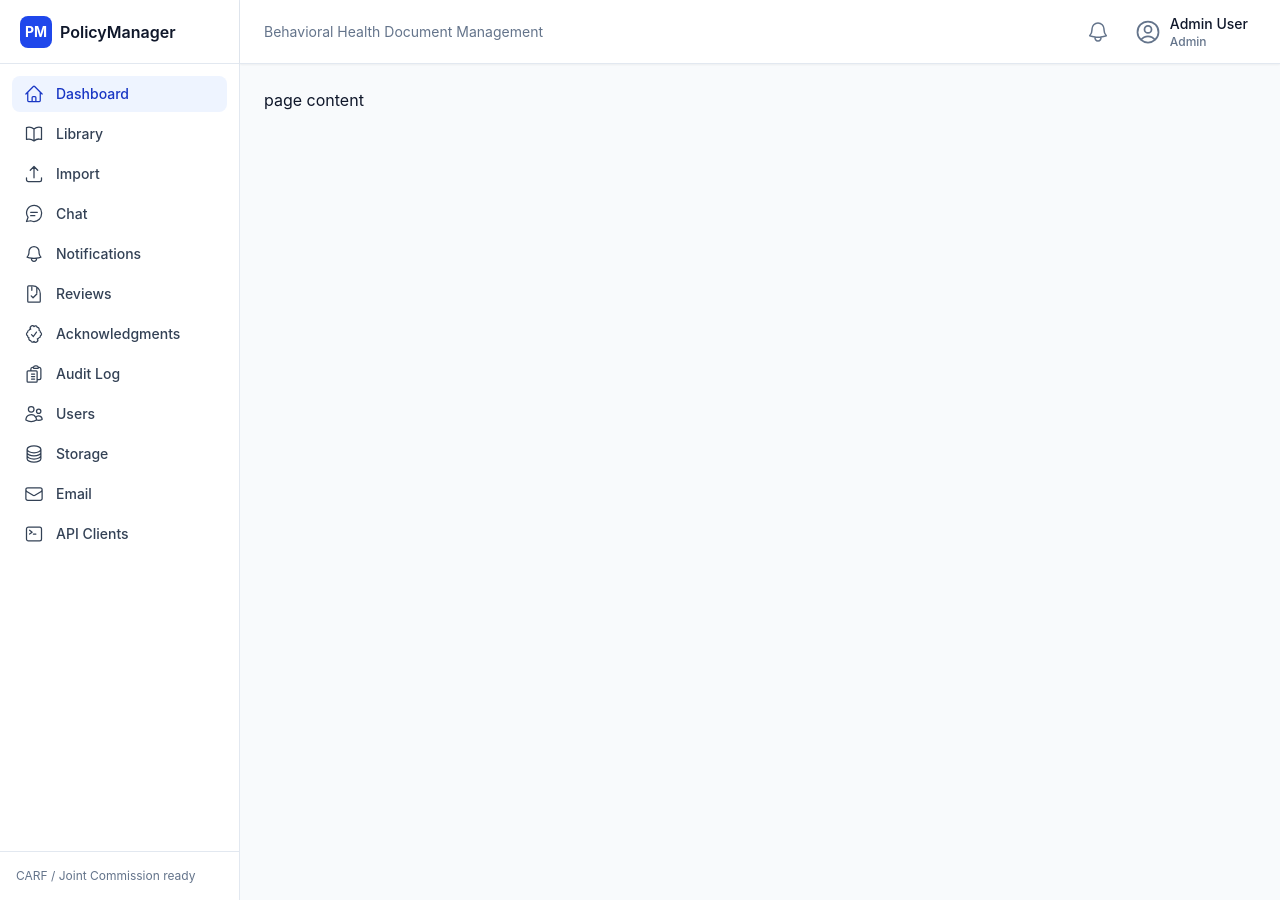
Test: AppShell user menu › opens a dropdown with Change password + Sign out from the avatar button
Click the button "Admin User Admin". click: (1191,32)
box: [1126,8,1256,56]
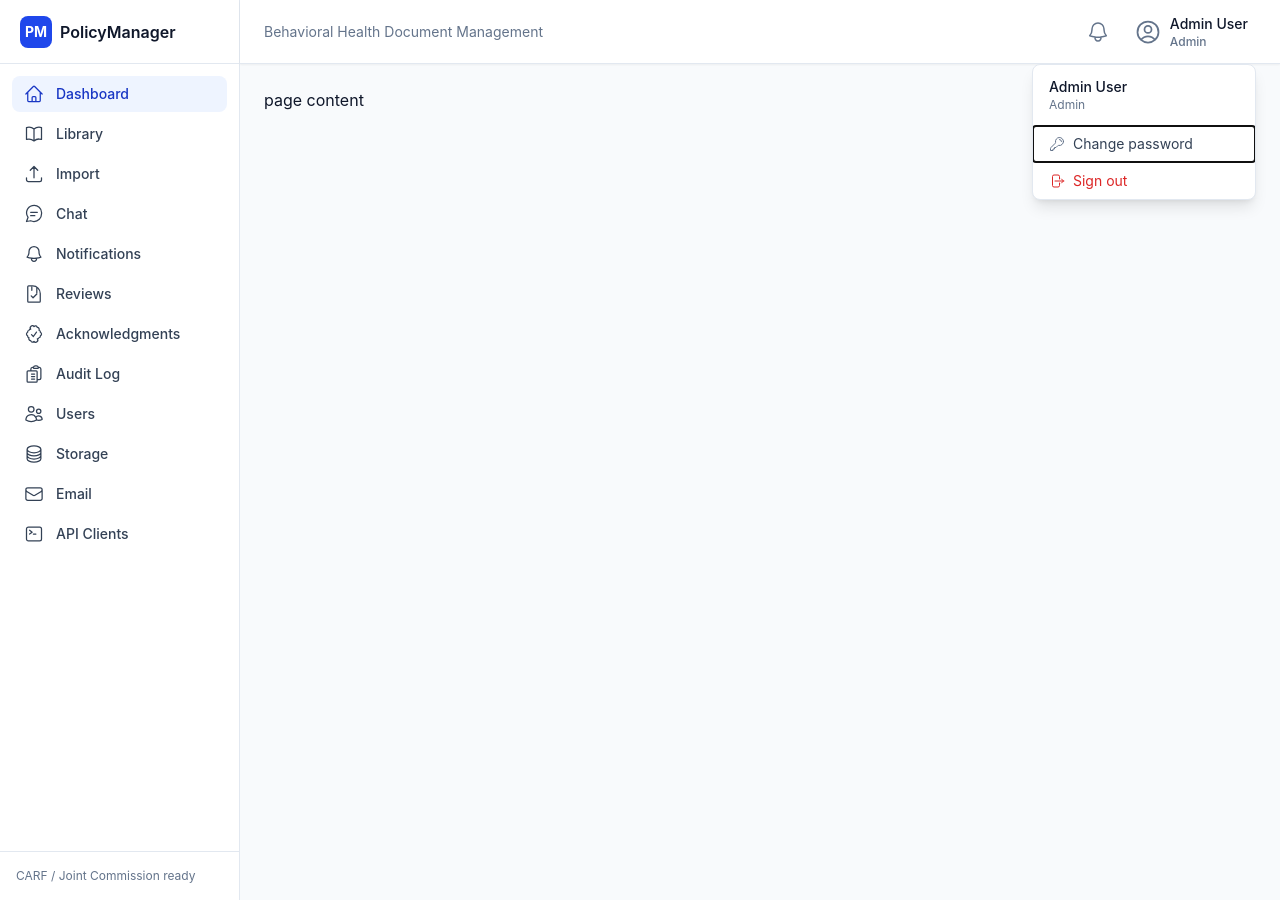
Expected: the menu item "Change password" is shown, [1033,126,1255,162]
Expected: the menu item "Sign out" is shown, [1033,162,1255,198]
